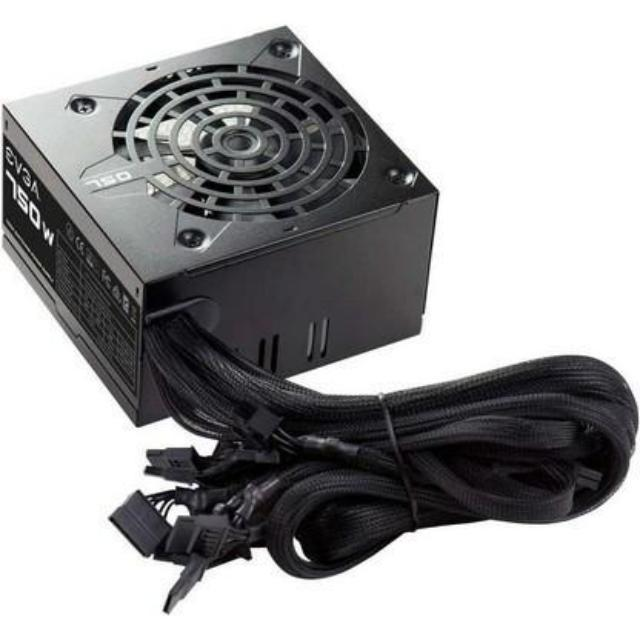PSU: (0, 16, 445, 427)
